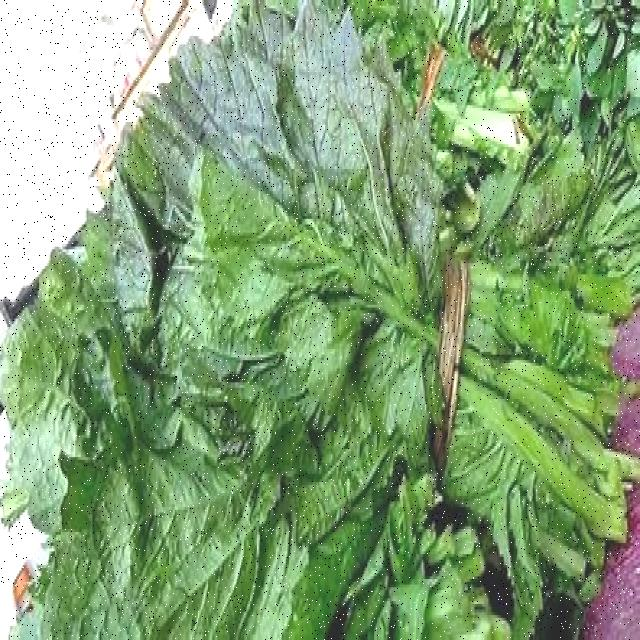NA: (119, 9, 640, 561), (15, 221, 514, 640)
